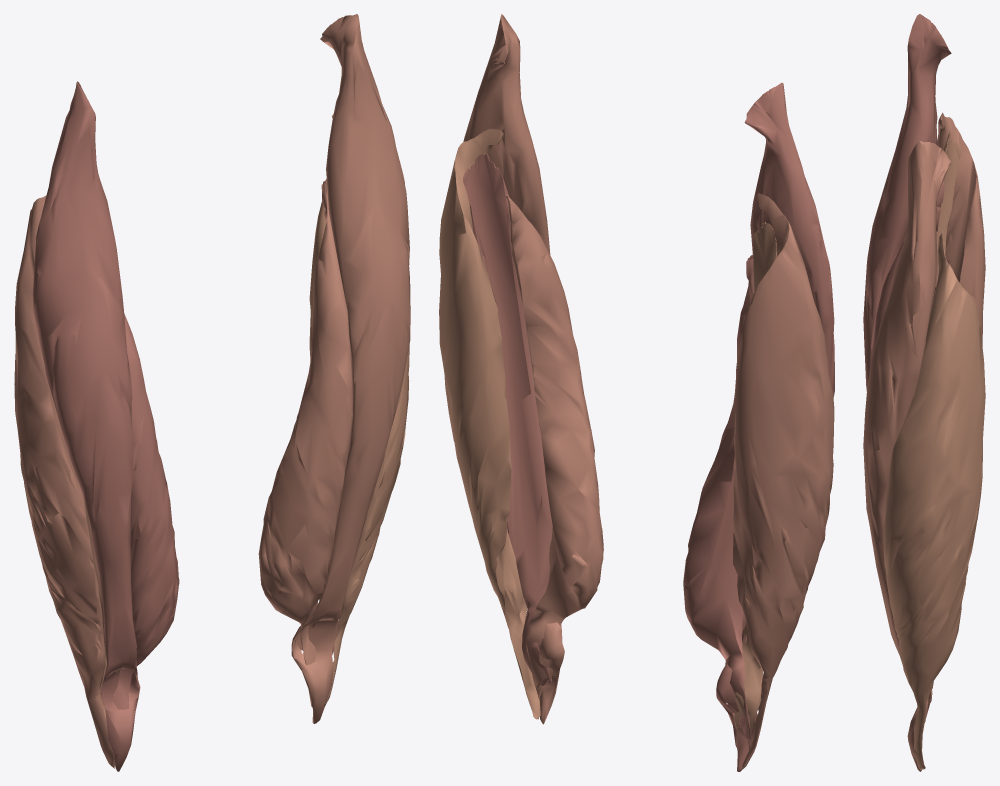
Rendered from quadriceps.glb.
3 renders of one model, left to right at view 1: azimuth 30°, elevation 25°; view 2: azimuth 150°, elevation 25°; view 3: azimuth 270°, elevation 25°, orthographic. The views are drawn at different scales.
Parts seen in each view (by area): view 1: FJ1433 Right rectus femoris, FJ1433M Left rectus femoris, FJ1443M Left vastus medialis, FJ1442 Right vastus lateralis, FJ1443 Right vastus medialis, FJ1442M Left vastus lateralis; view 2: FJ1442 Right vastus lateralis, FJ1442M Left vastus lateralis, FJ1443M Left vastus medialis, FJ1441M Left vastus intermedius, FJ1443 Right vastus medialis, FJ1433 Right rectus femoris, FJ1433M Left rectus femoris, FJ1441 Right vastus intermedius; view 3: FJ1442M Left vastus lateralis, FJ1433M Left rectus femoris, FJ1433 Right rectus femoris, FJ1442 Right vastus lateralis, FJ1441 Right vastus intermedius, FJ1443 Right vastus medialis.
Part boxes in pixels (left/top/right/bottom): FJ1433 Right rectus femoris: left=32, top=81, right=140, bottom=771; FJ1433M Left rectus femoris: left=291, top=14, right=410, bottom=723; FJ1443M Left vastus medialis: left=258, top=179, right=352, bottom=665; FJ1442 Right vastus lateralis: left=14, top=195, right=115, bottom=768; FJ1443 Right vastus medialis: left=113, top=314, right=179, bottom=709; FJ1442M Left vastus lateralis: left=309, top=113, right=409, bottom=706; FJ1442 Right vastus lateralis: left=732, top=193, right=834, bottom=769; FJ1442M Left vastus lateralis: left=439, top=129, right=540, bottom=719; FJ1443M Left vastus medialis: left=505, top=194, right=603, bottom=687; FJ1441M Left vastus intermedius: left=463, top=153, right=552, bottom=685; FJ1443 Right vastus medialis: left=683, top=254, right=754, bottom=739; FJ1433 Right rectus femoris: left=716, top=82, right=834, bottom=771; FJ1433M Left rectus femoris: left=463, top=14, right=564, bottom=724; FJ1441 Right vastus intermedius: left=734, top=221, right=776, bottom=734; FJ1442M Left vastus lateralis: left=883, top=233, right=985, bottom=769; FJ1433M Left rectus femoris: left=863, top=141, right=951, bottom=771; FJ1433 Right rectus femoris: left=863, top=14, right=951, bottom=391; FJ1442 Right vastus lateralis: left=937, top=112, right=985, bottom=345; FJ1441 Right vastus intermedius: left=936, top=132, right=961, bottom=281; FJ1443 Right vastus medialis: left=871, top=181, right=944, bottom=357.
Bounding box in the file's own units: 0.3193 × 0.5564 × 0.0949.
